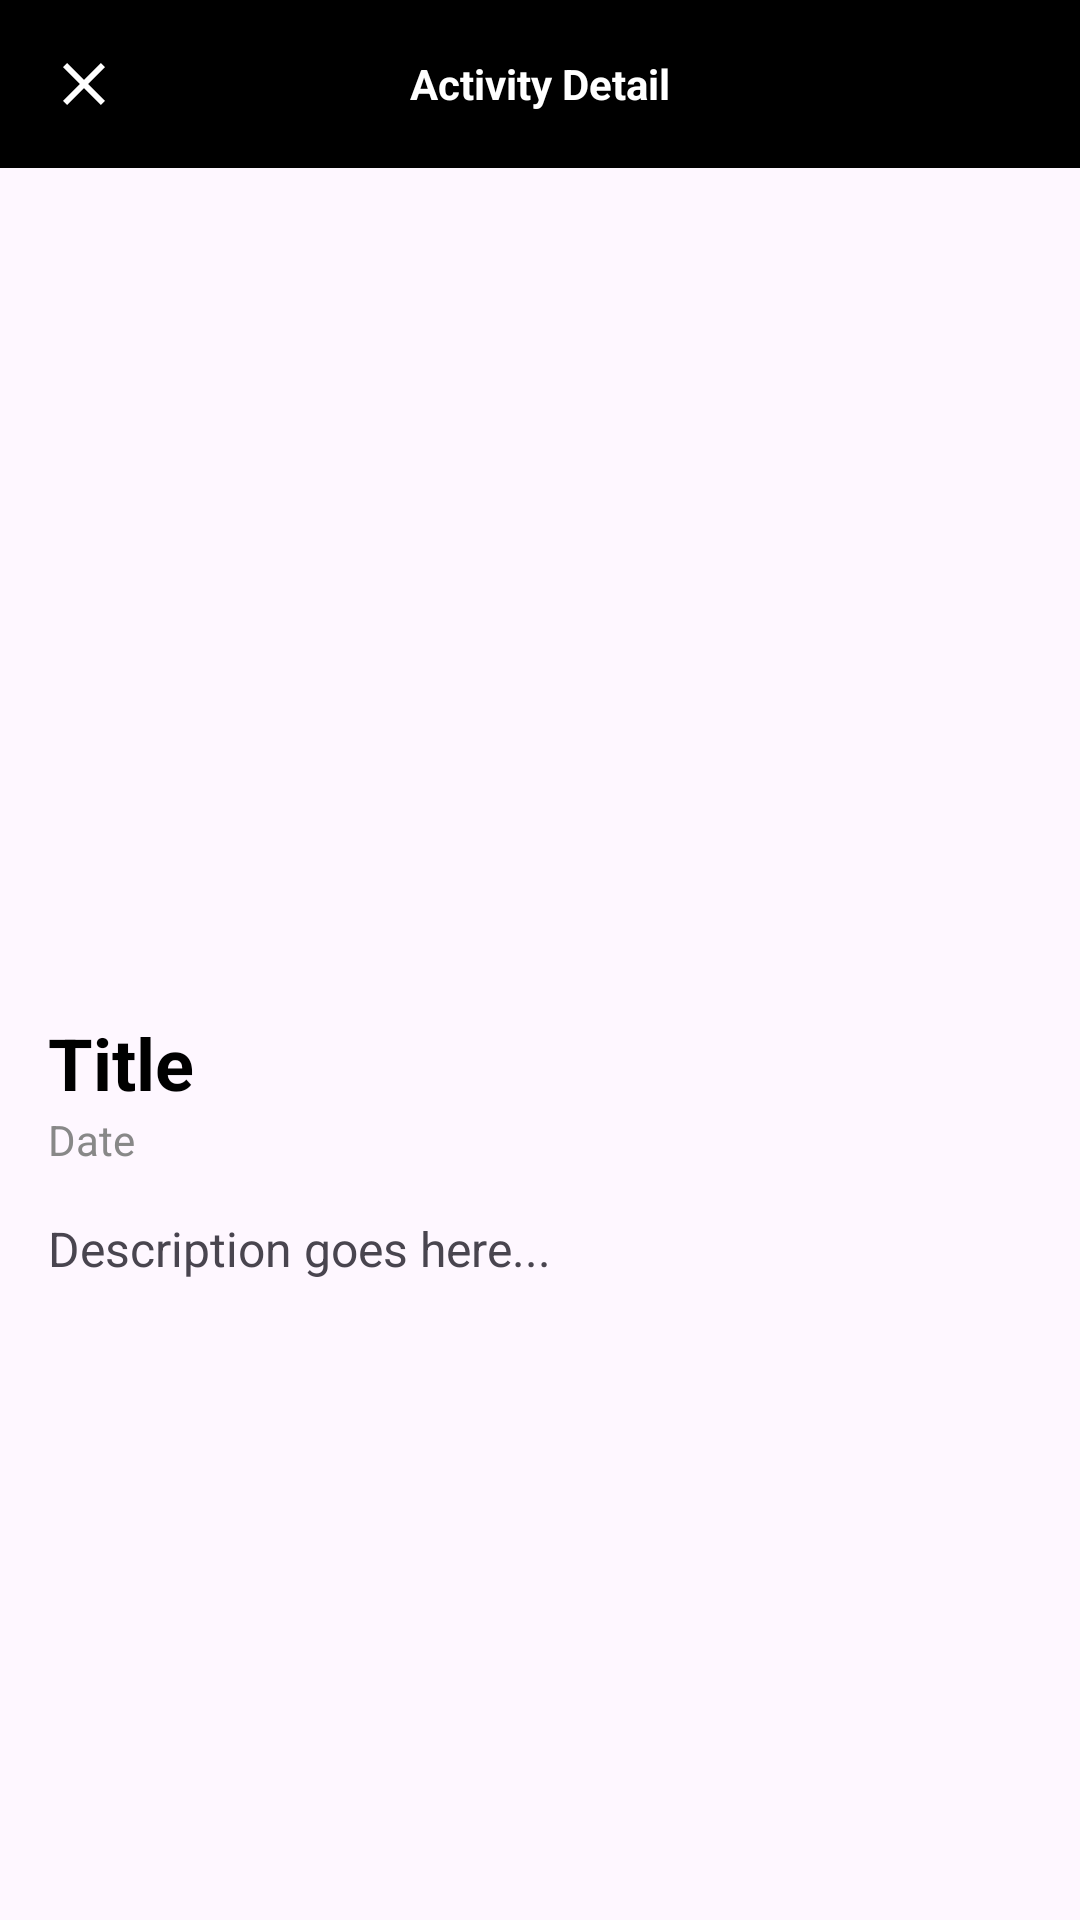

Icons on this 1080w x 1920h Android screen, each with the point to tap as (x=x, y=y):
close: (x=84, y=84)
